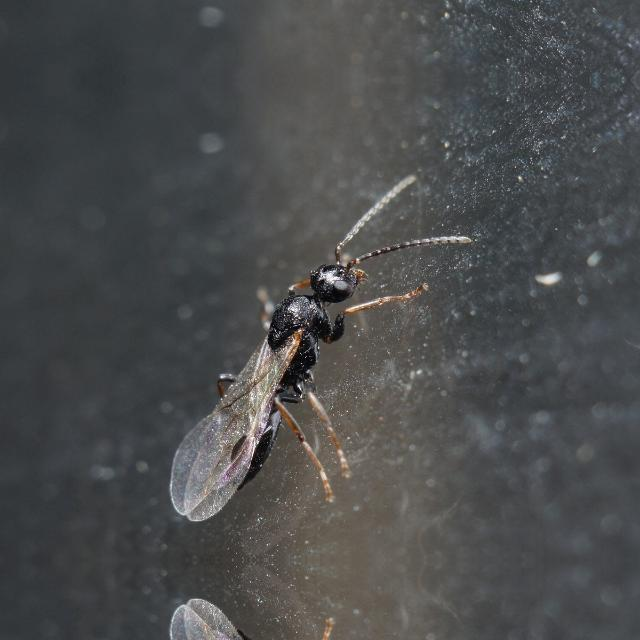Dolichoderus: (134, 208, 418, 526)
